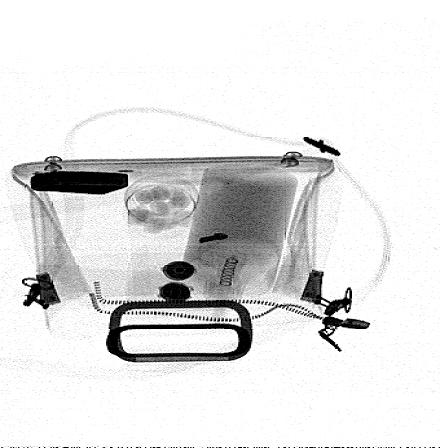Lighter: (30, 170, 129, 196)
